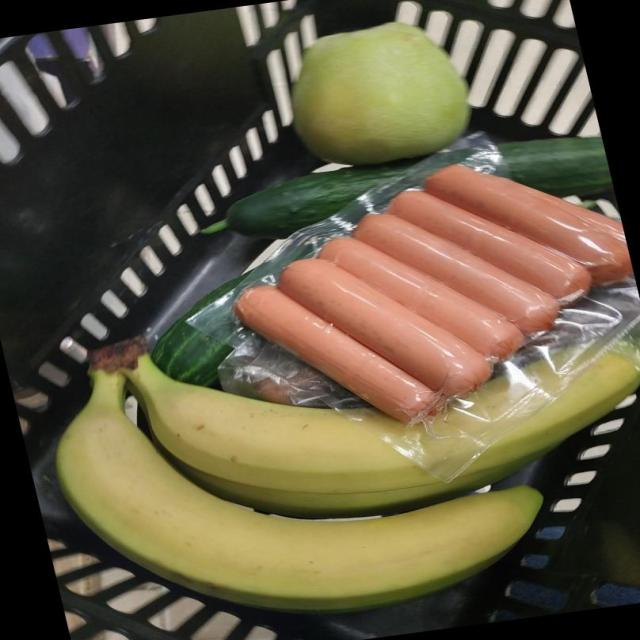Apple: (292, 21, 469, 164)
Banana: (56, 368, 541, 611), (90, 338, 640, 517)
Cucumber: (203, 158, 416, 237), (150, 272, 248, 385), (495, 135, 613, 196)
Sausages: (188, 144, 640, 479)
